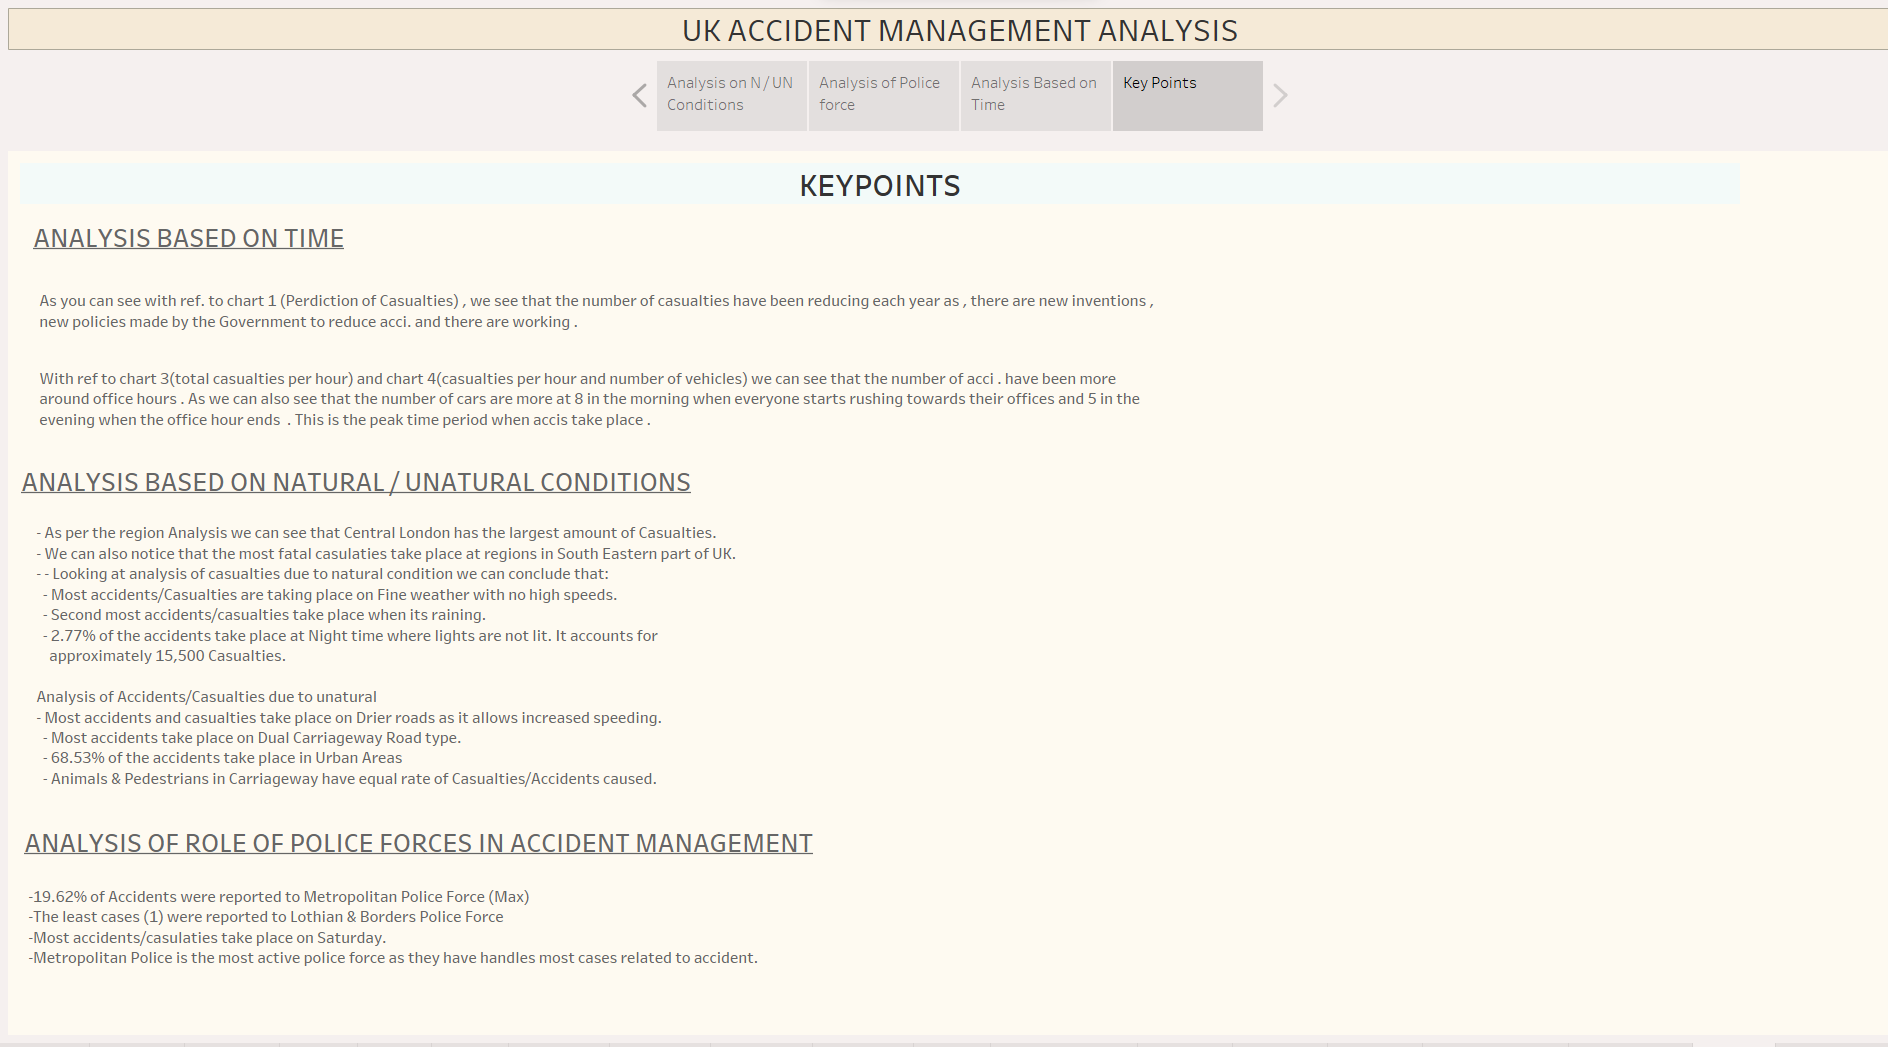

What the dashboard file says about the page in this screenshot:
{"tool":"tableau","page":{"name":"Dashboard 3","canvas":[1000,1000],"units":"permille","ordinal":3},"visuals":[{"type":"title","box":[5.1,8,887.6,58.1]},{"type":"text","box":[11.5,79.2,346.7,36.1]},{"type":"text","box":[14.7,126.2,604.7,108.2]},{"type":"text","box":[14.7,203.4,590,153.3]},{"type":"text","box":[5.4,354.7,609.8,36.1]},{"type":"text","box":[13,405.8,687.8,335.7]},{"type":"text","box":[7,763.5,609.8,36.1]},{"type":"text","box":[8.9,783.6,563.2,189.4]}]}

Visuals, with their boxes on the dashboard's canvas, which has no fixed pixel size, in thousandths of its width and height (x1, y1, x2, y2). These are canvas units, not pixel positions in the 1888x1047 screenshot, which may show the page scaled, cropped or inside an application window:
title: bbox=(5, 8, 893, 66)
text: bbox=(12, 79, 358, 115)
text: bbox=(15, 126, 619, 234)
text: bbox=(15, 203, 605, 357)
text: bbox=(5, 355, 615, 391)
text: bbox=(13, 406, 701, 742)
text: bbox=(7, 764, 617, 800)
text: bbox=(9, 784, 572, 973)
